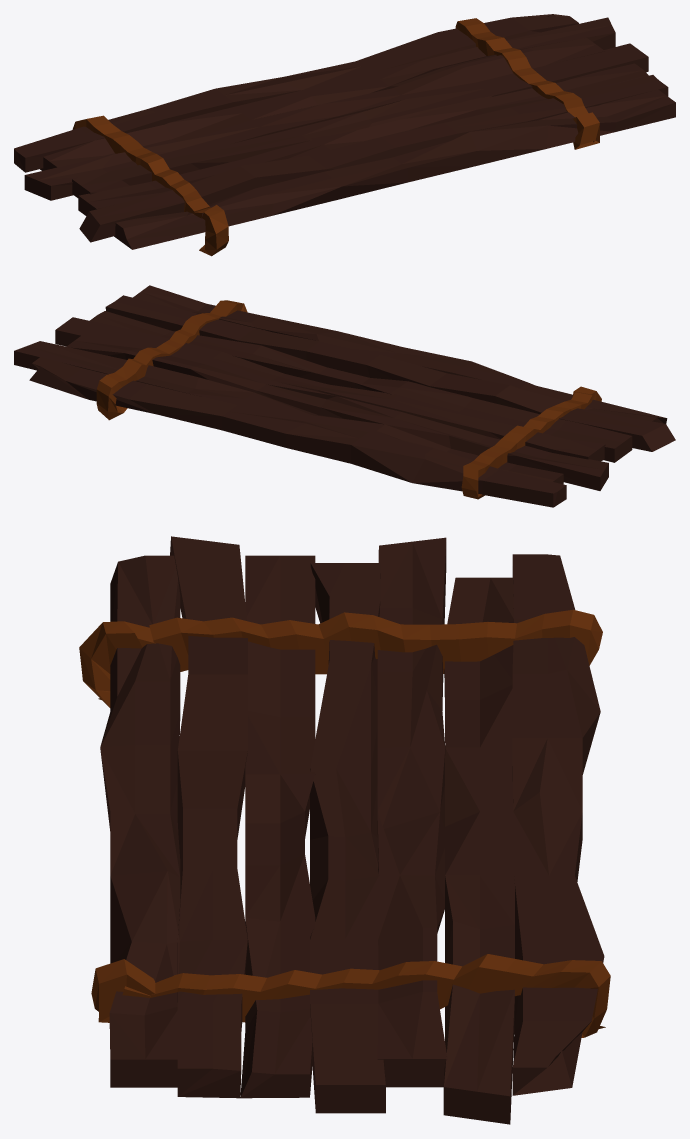
The model's file is Raft.fbx.
3 views of the same model, one above another, from view 1: azimuth 30°, elevation 25°; view 2: azimuth 150°, elevation 25°; view 3: azimuth 270°, elevation 25° (orthographic). The views are drawn at different scales.
Parts seen in each view (by area): view 1: Raft; view 2: Raft; view 3: Raft.
Boxes of the visible parts, x1,y1,x2,y2 form: Raft: (14, 14, 675, 256); Raft: (14, 285, 675, 507); Raft: (79, 536, 610, 1124).
Bounding box in the file's own units: 3.52 × 1.41 × 0.2966.
